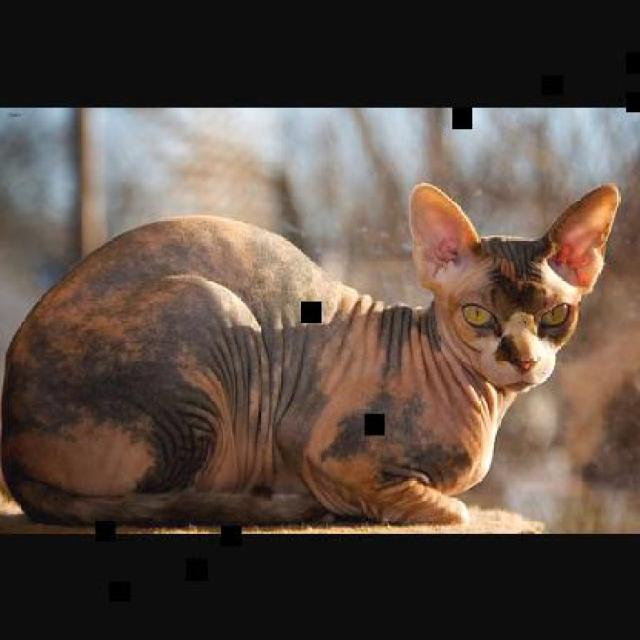unauthorized: (0, 178, 620, 528)
